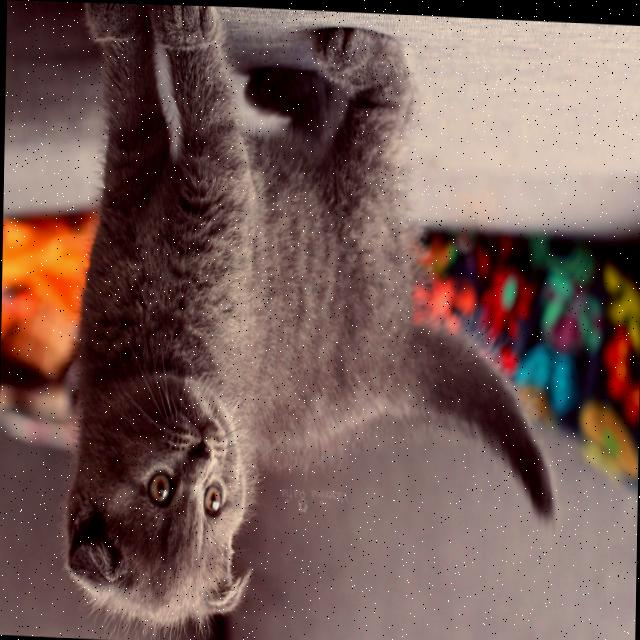Scottish Fold: (58, 1, 566, 640)
